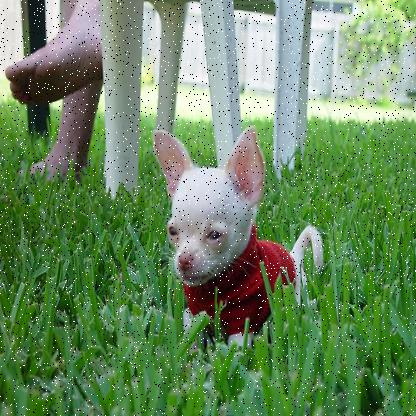dog: (150, 123, 334, 341)
